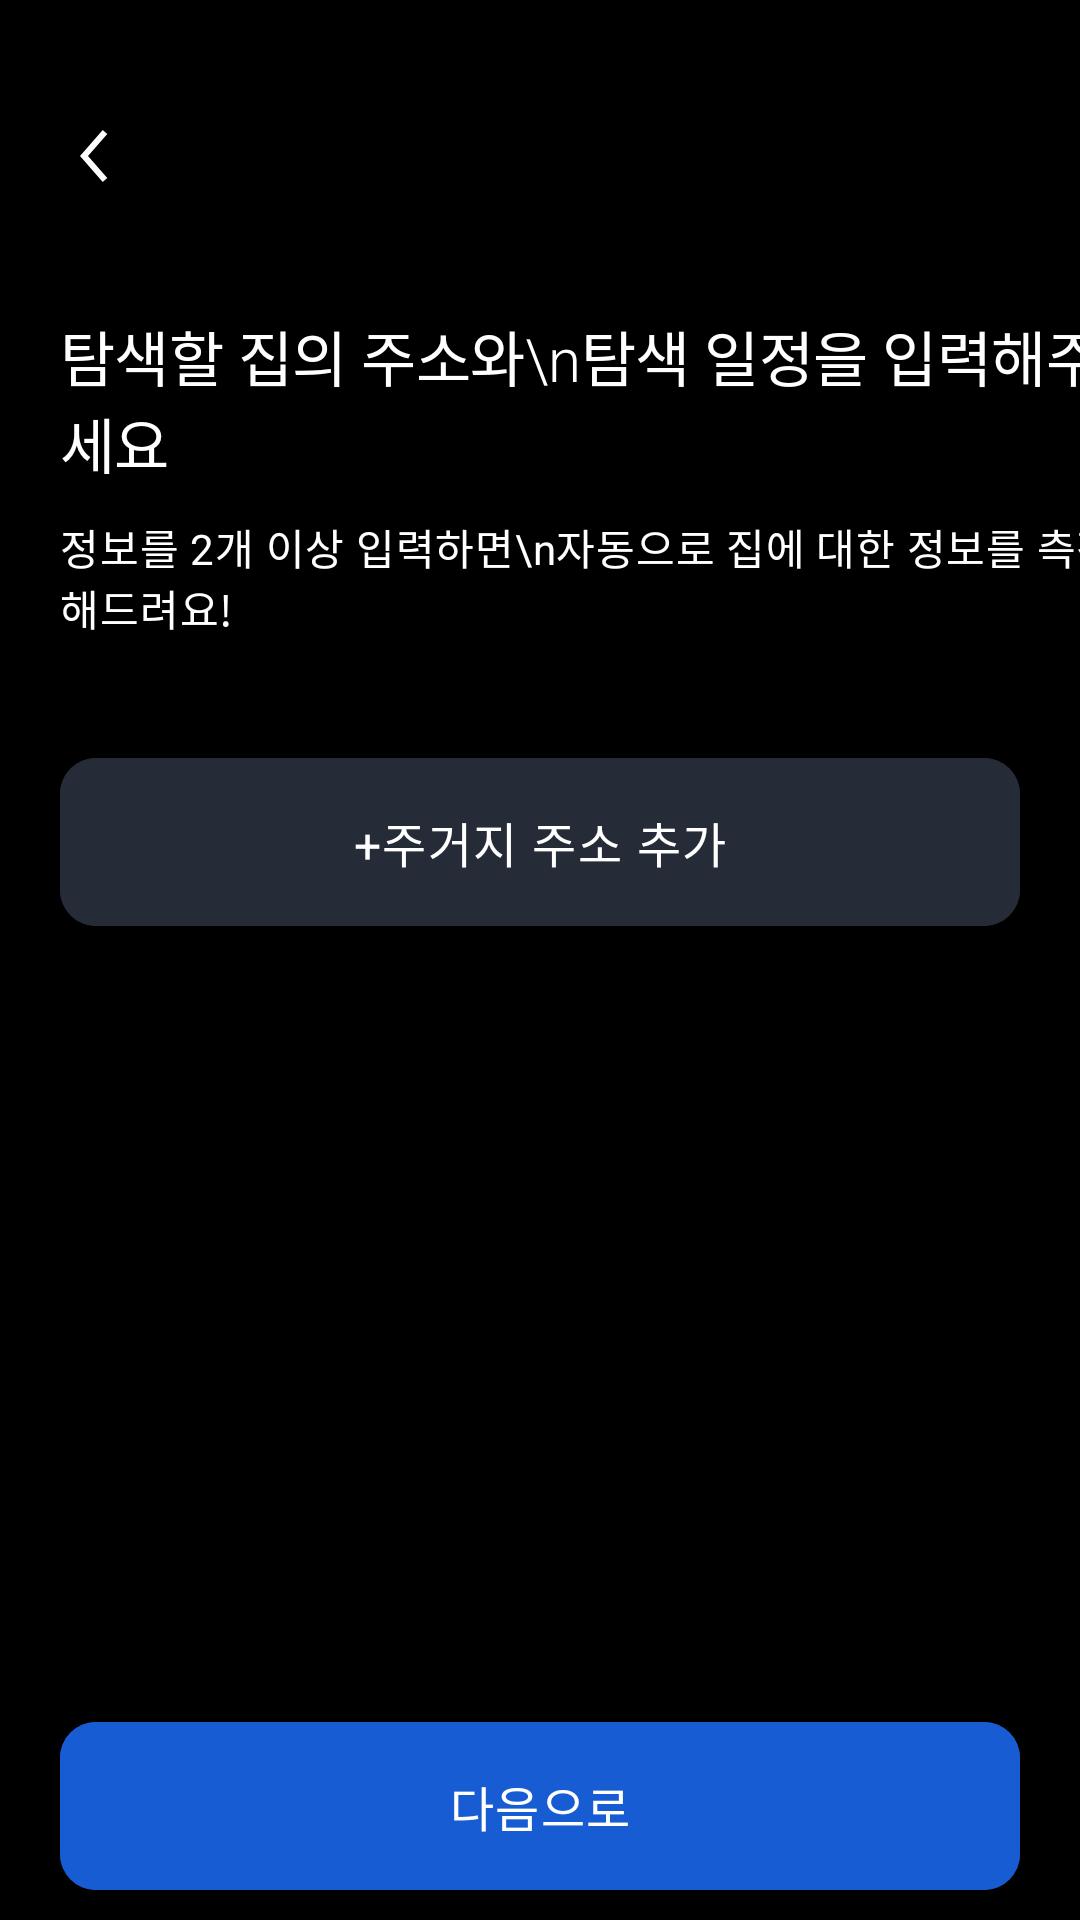

Screen size 1080×1920. Icon name, then its box in pixels as (x1, y1, x2, y2):
back: (80, 130, 107, 182)
